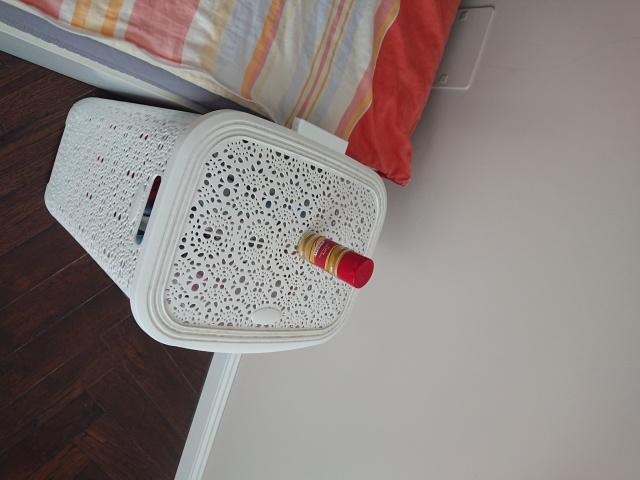Kotanyi Curry Spices Mix 70g: (295, 227, 376, 290)
